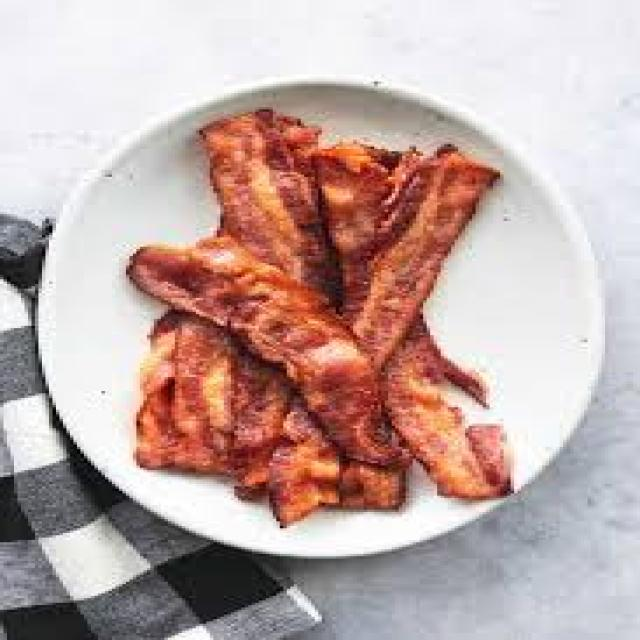Bacon: (128, 236, 402, 464), (351, 146, 498, 367), (201, 110, 334, 301), (385, 325, 502, 498), (171, 315, 239, 472)
